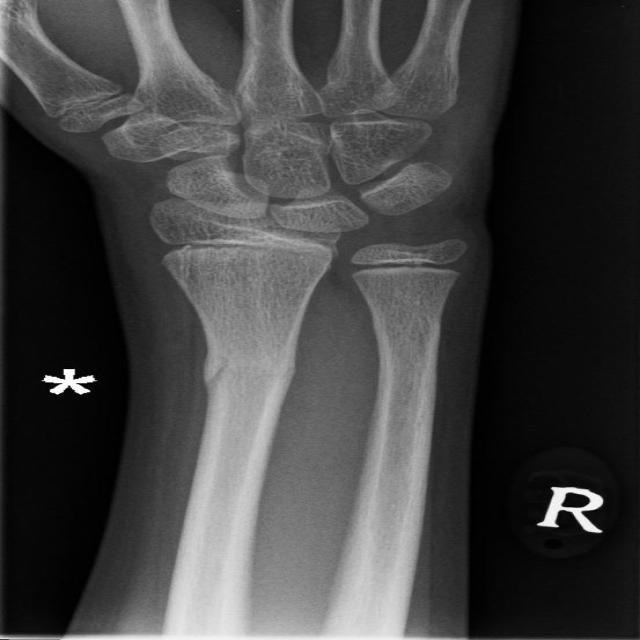fracture: (198, 346, 236, 392), (176, 244, 201, 284)
